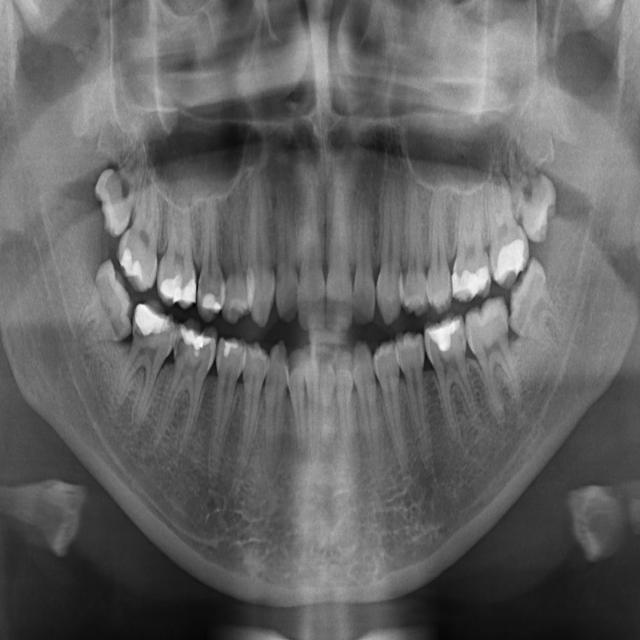CompositeResinRestoration: (450, 258, 492, 306), (134, 300, 172, 340), (496, 236, 527, 284), (427, 316, 461, 354), (121, 242, 147, 282), (162, 272, 196, 302), (181, 324, 210, 355), (203, 291, 221, 317), (225, 339, 240, 361)
Crown: (451, 264, 476, 294)
DentalCaries: (174, 335, 187, 368), (457, 328, 470, 358), (131, 325, 141, 354), (198, 271, 209, 297)
